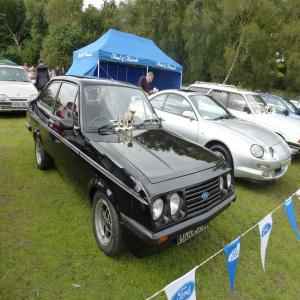Vehicle-registration-plate: (180, 226, 210, 246), (11, 102, 31, 111), (283, 158, 292, 168)
